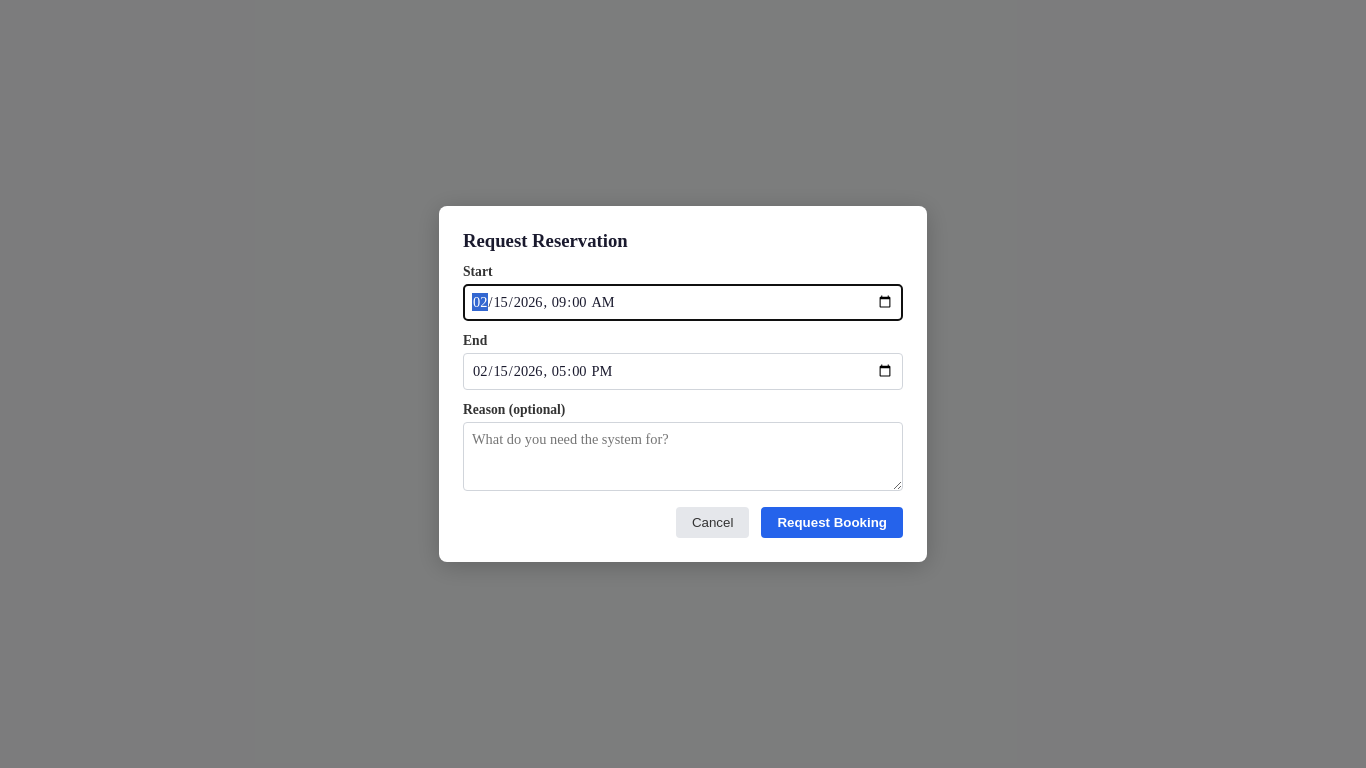
Test case: ReservationRequestDialog › shows error on API failure
This screenshot has width=1366, height=768.
Step 1. Click the button "Request Booking" → (832, 522), box [761,507,903,538]
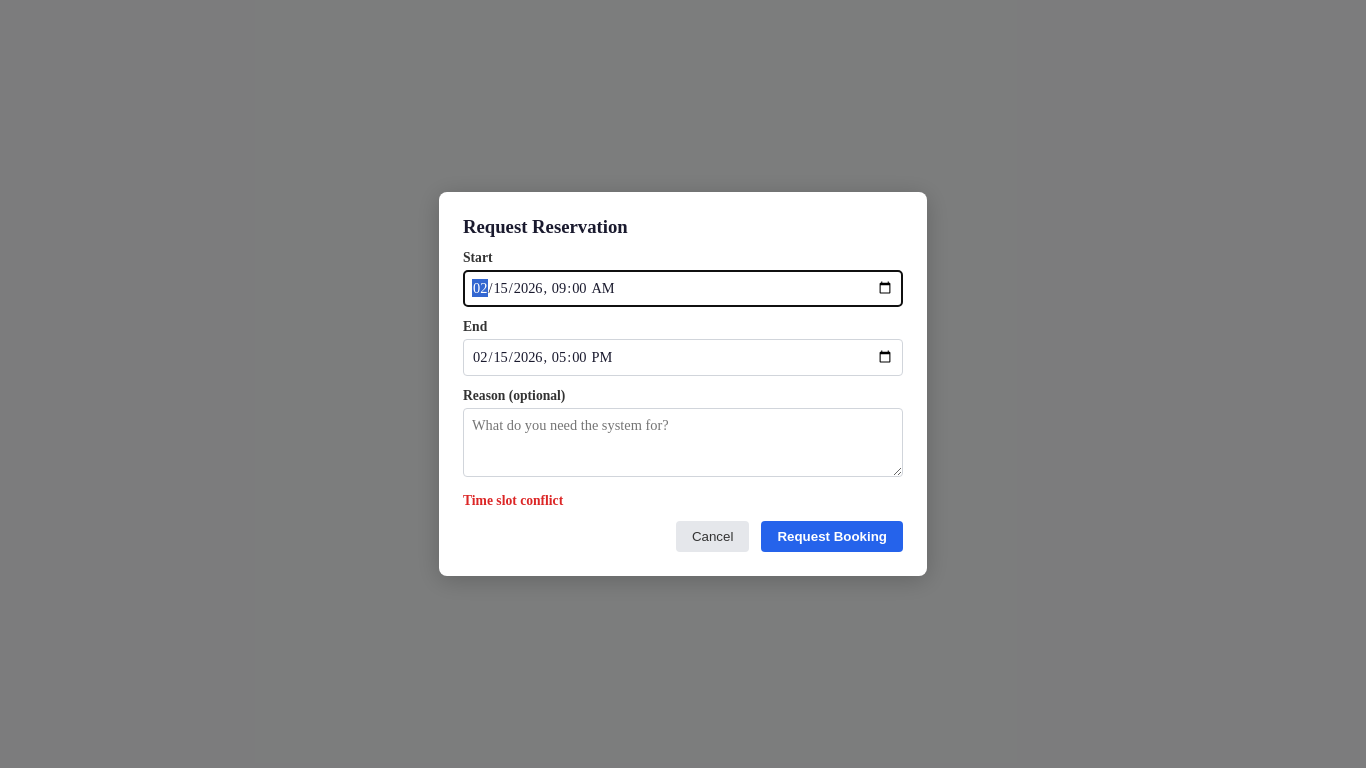
Expected: the text "Time slot conflict" is shown, [463,493,563,508]
